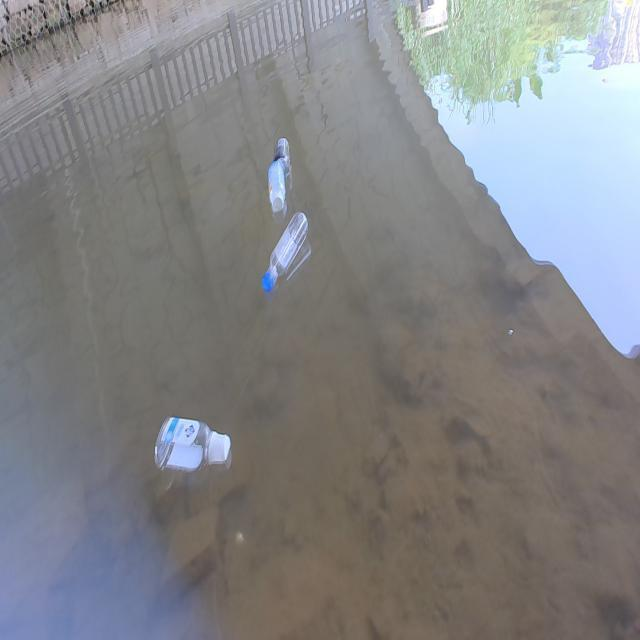bottle: (138, 391, 248, 482), (257, 210, 314, 296), (264, 154, 292, 218)
